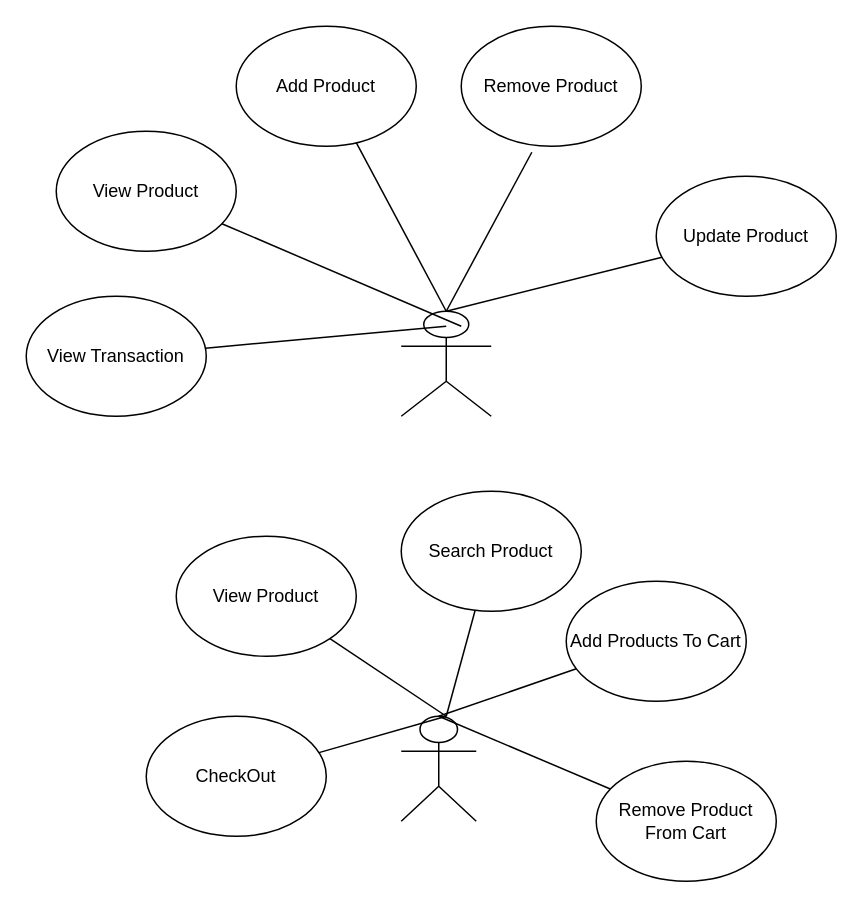
Some shapes in this 863 by 908 pixel diagram are drawn without their labels. The centre of each missing label's shape, as x and y in pixels:
"Admin" goes at (x=445, y=363).
"Customer" goes at (x=438, y=768).
